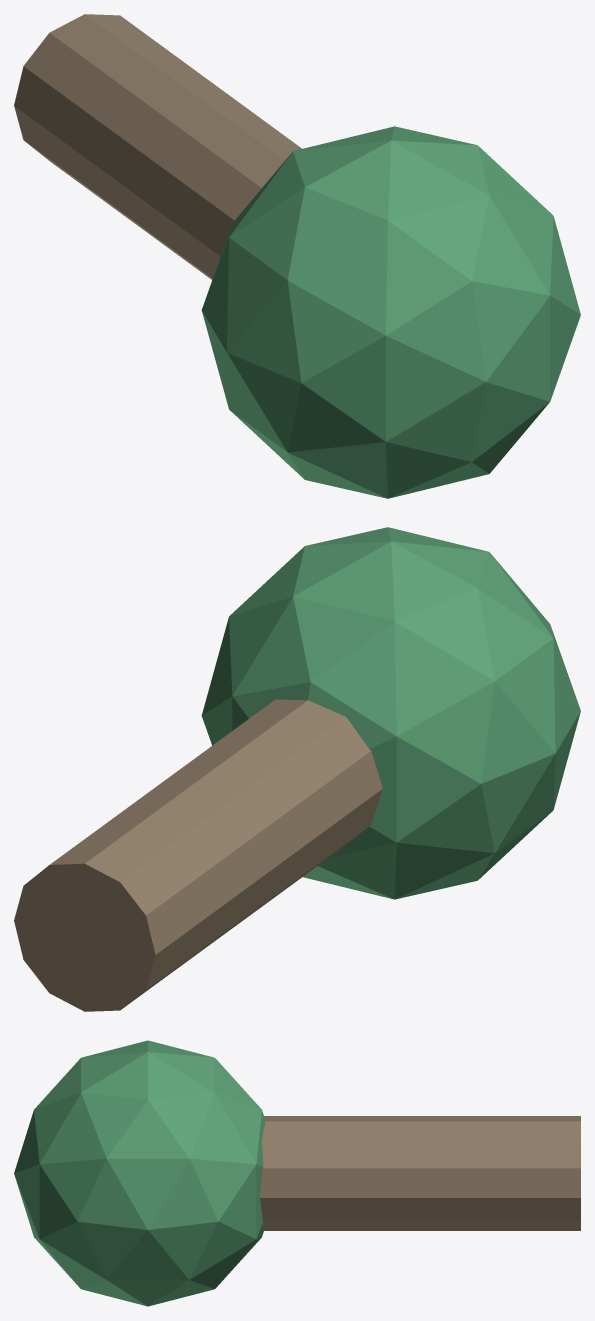
File: flower_bed.glb
The picture shows the model from 3 angles, top to bottom: view 1: azimuth 30°, elevation 25°; view 2: azimuth 150°, elevation 25°; view 3: azimuth 270°, elevation 25°; orthographic projection. The views are drawn at different scales.
Visible parts, largest first — view 1: g1, g0; view 2: g1, g0; view 3: g1, g0.
Boxes of the visible parts, x1,y1,x2,y2 form: g1: (201,126,580,498); g0: (14,14,301,279); g1: (201,527,580,899); g0: (14,699,382,1011); g1: (14,1040,265,1306); g0: (260,1116,580,1230).
Size of the model in its own units: 1.3 by 1.3 by 2.75.
